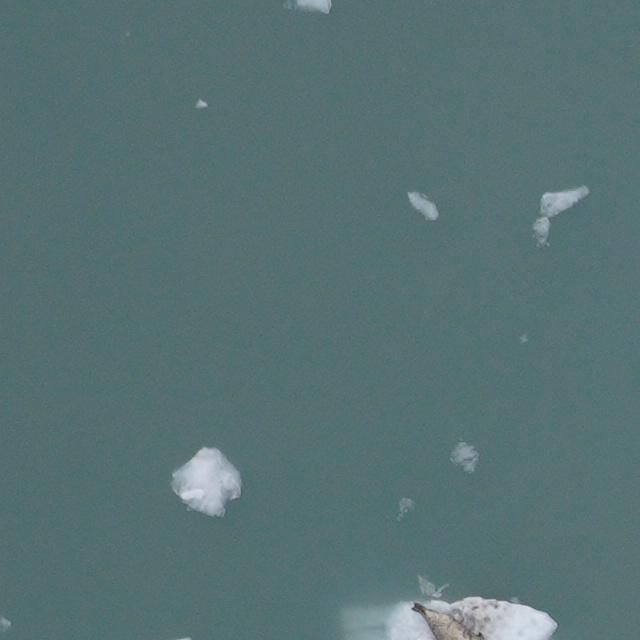seal: (407, 596, 489, 640)
